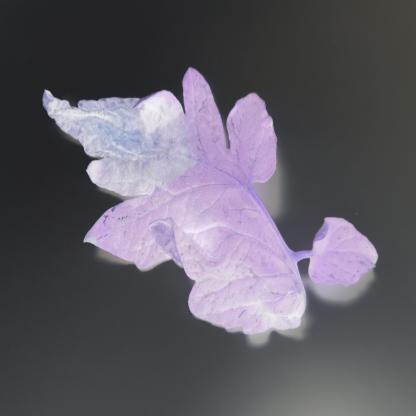potato leaf late blight: (32, 77, 384, 343)
